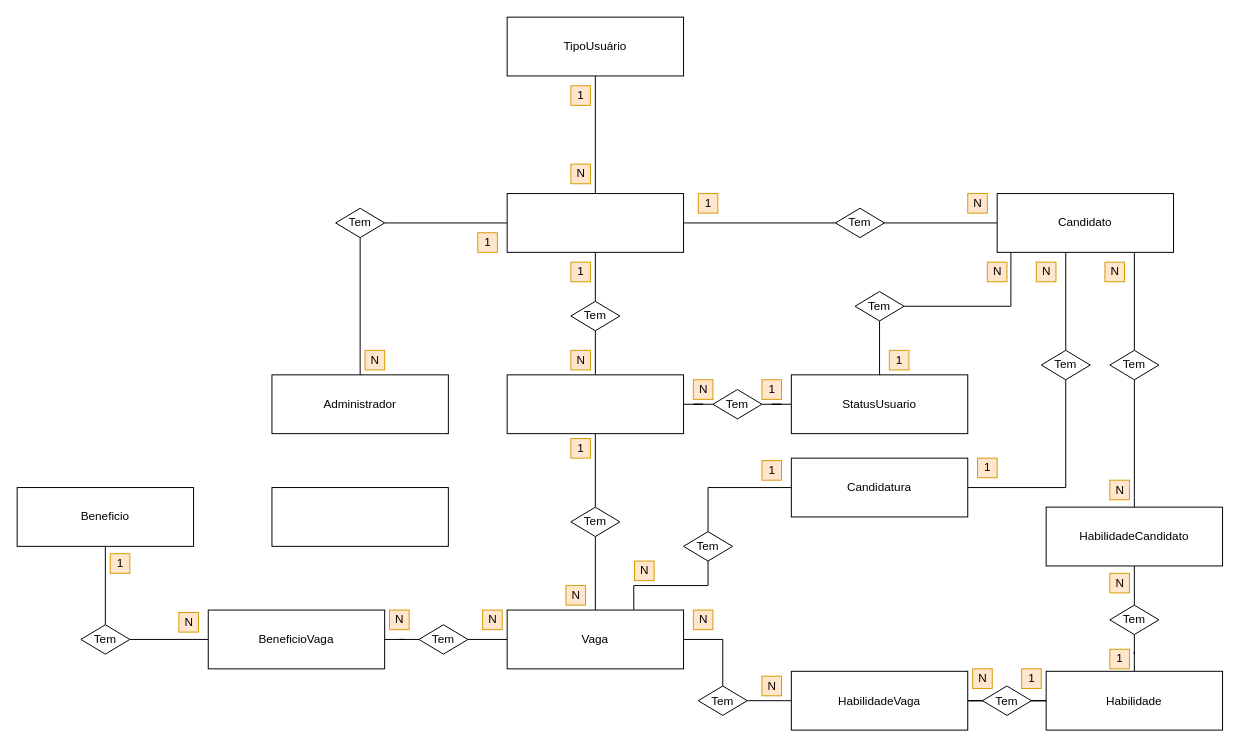
Some shapes in this 1240 by 748 pixel diagram are drawn without their labels. The shapes that lost their labels are listed below. From the top down, each one's centre as x and y in pixels, then its label:
At point 595,222: "Usuário".
At point 595,404: "Empresa".
At point 359,516: "Notificações".
